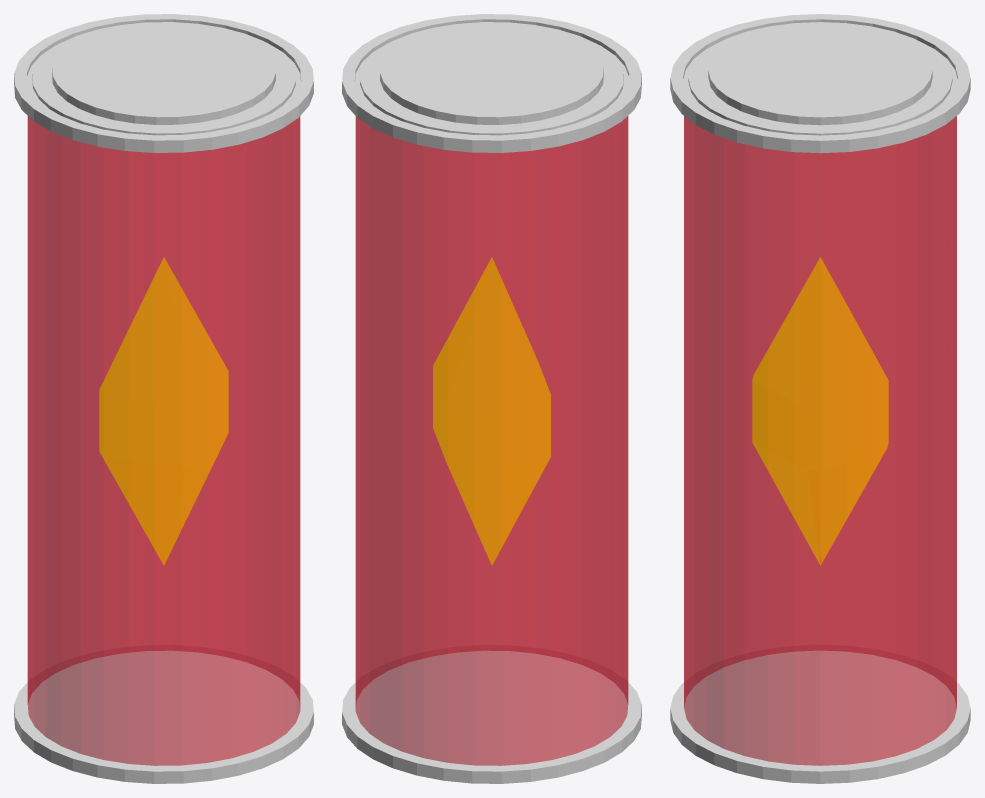
File: ExplosiveBarrel.fbx
3 views of the same model, side by side, from view 1: azimuth 30°, elevation 25°; view 2: azimuth 150°, elevation 25°; view 3: azimuth 270°, elevation 25° (orthographic).
Parts seen in each view (by area): view 1: Cone.001; view 2: Cone.001; view 3: Cone.001.
Part boxes in pixels (x1,y1,x2,y2): Cone.001: (14, 14, 313, 783); Cone.001: (342, 14, 641, 783); Cone.001: (670, 14, 970, 783).
Bounding box in the file's own units: 2.2 × 2.2 × 5.26.
